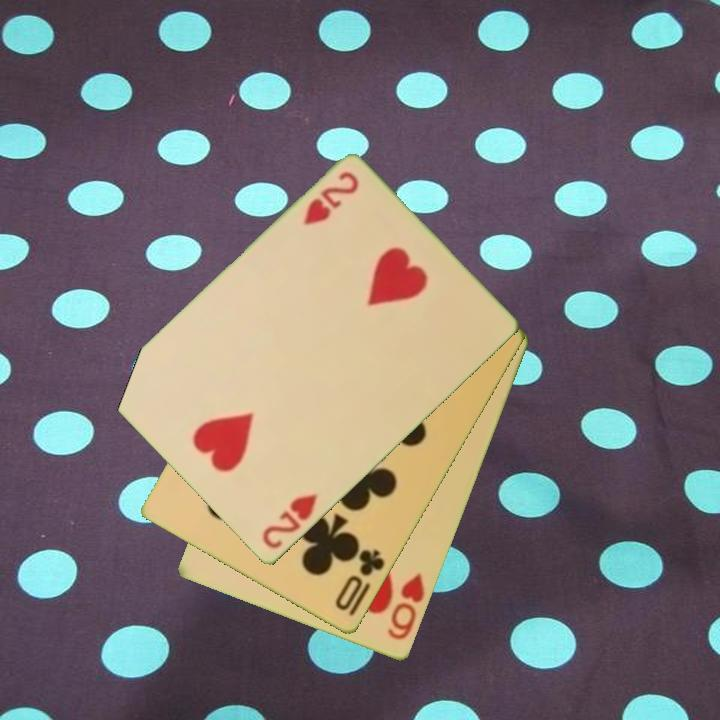10c: (331, 546, 388, 615)
2h: (258, 490, 321, 553), (299, 168, 362, 229)
6h: (383, 569, 428, 644)
